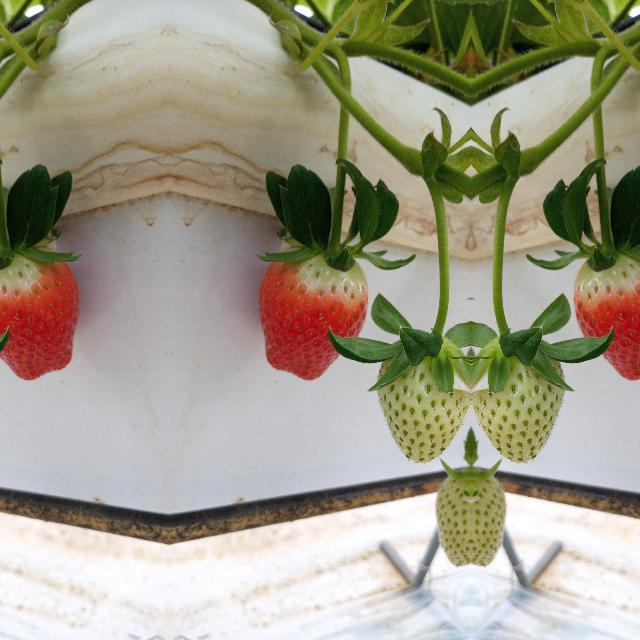Health_100: (255, 249, 369, 381), (0, 249, 81, 381), (572, 249, 640, 381)
Health_25: (382, 322, 464, 458), (477, 322, 559, 458), (438, 464, 470, 572), (471, 464, 503, 572)
